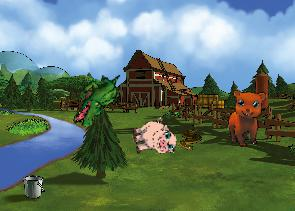bear: (225, 87, 271, 148)
crocodile: (71, 66, 122, 133)
pig: (129, 115, 178, 161)
